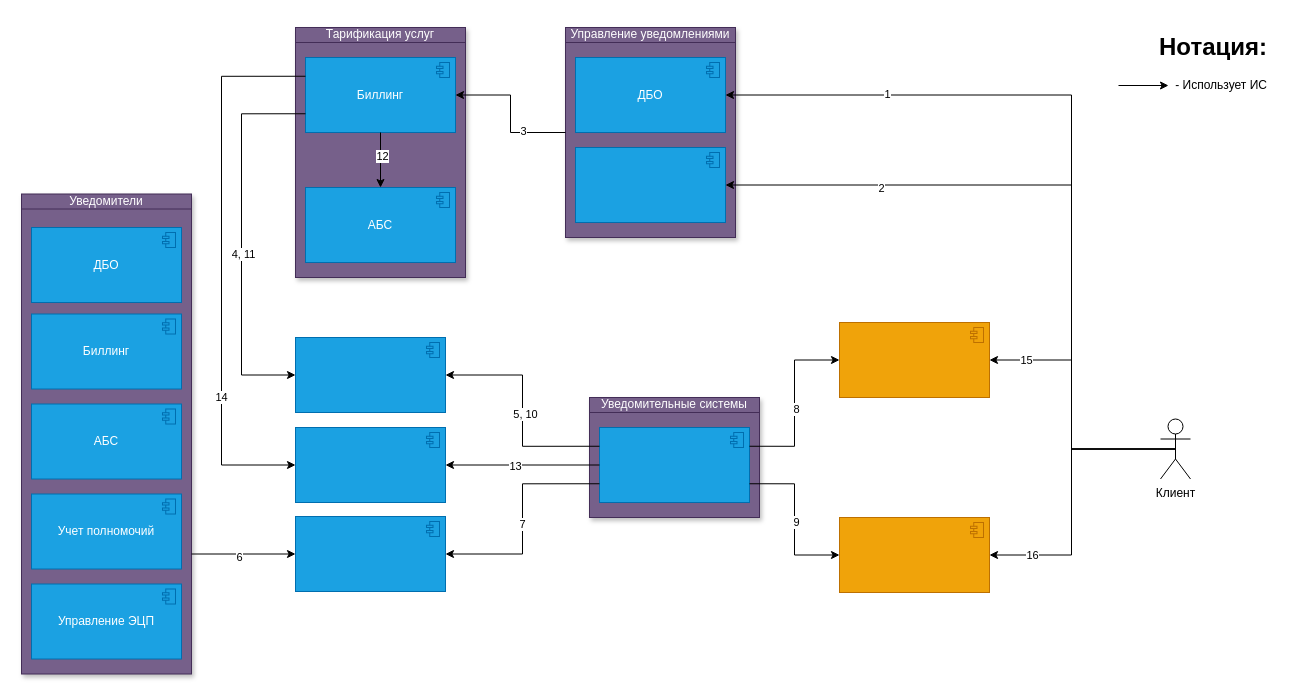
Some shapes in this 1290 by 698 pixel diagram are drawn without their labels. The shapes that lost their labels are listed below. From the top down, each one's centre as x and y in pixels, then its label:
At point 650,184: "Call Center".
At point 370,374: "iPaaS".
At point 914,360: "Оператор SMS уведомлений".
At point 370,464: "Платформа данных".
At point 674,464: "Система Уведомлений".
At point 370,554: "Каталог бизнес-событий".
At point 914,554: "Оператор Push уведомлений".
